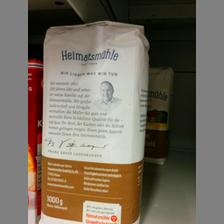Mehl: (39, 20, 149, 222)
